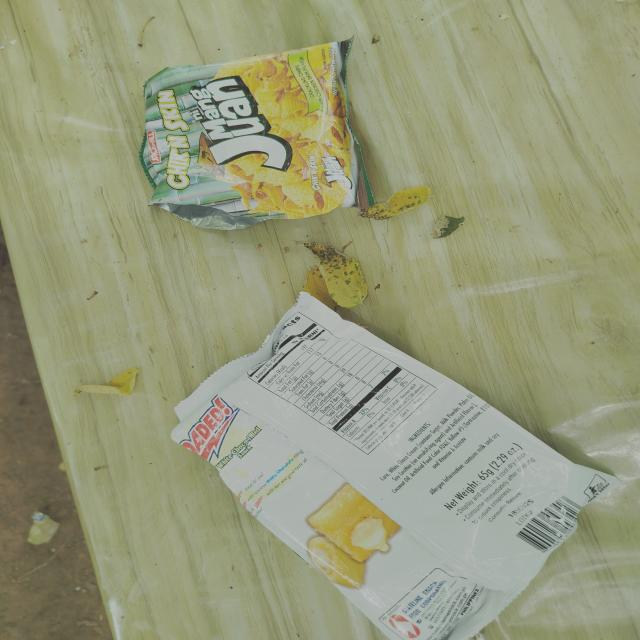residual: (156, 285, 637, 640), (132, 24, 382, 240)
